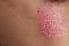plaque psoriasis: (36, 3, 67, 42)
